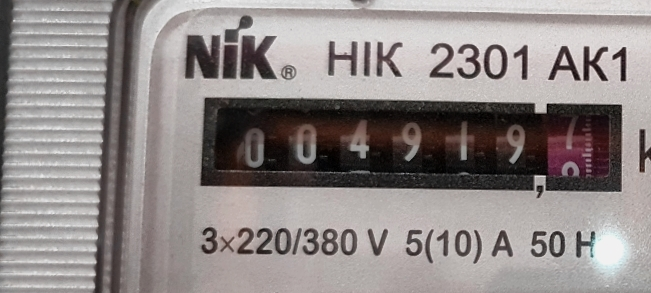0: (292, 119, 319, 165), (241, 123, 265, 168)
1: (455, 116, 470, 162)
4: (345, 115, 370, 159)
7: (556, 111, 579, 151)
9: (502, 119, 526, 166), (398, 119, 422, 163)
screen: (188, 82, 639, 209)
